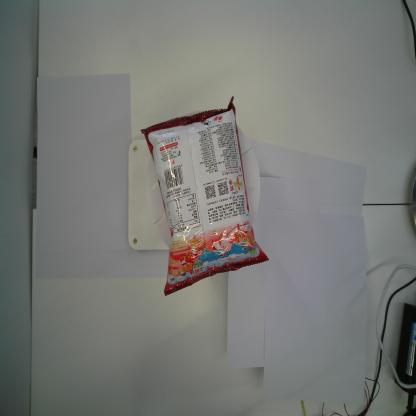Puffed Food: (140, 96, 270, 298)
